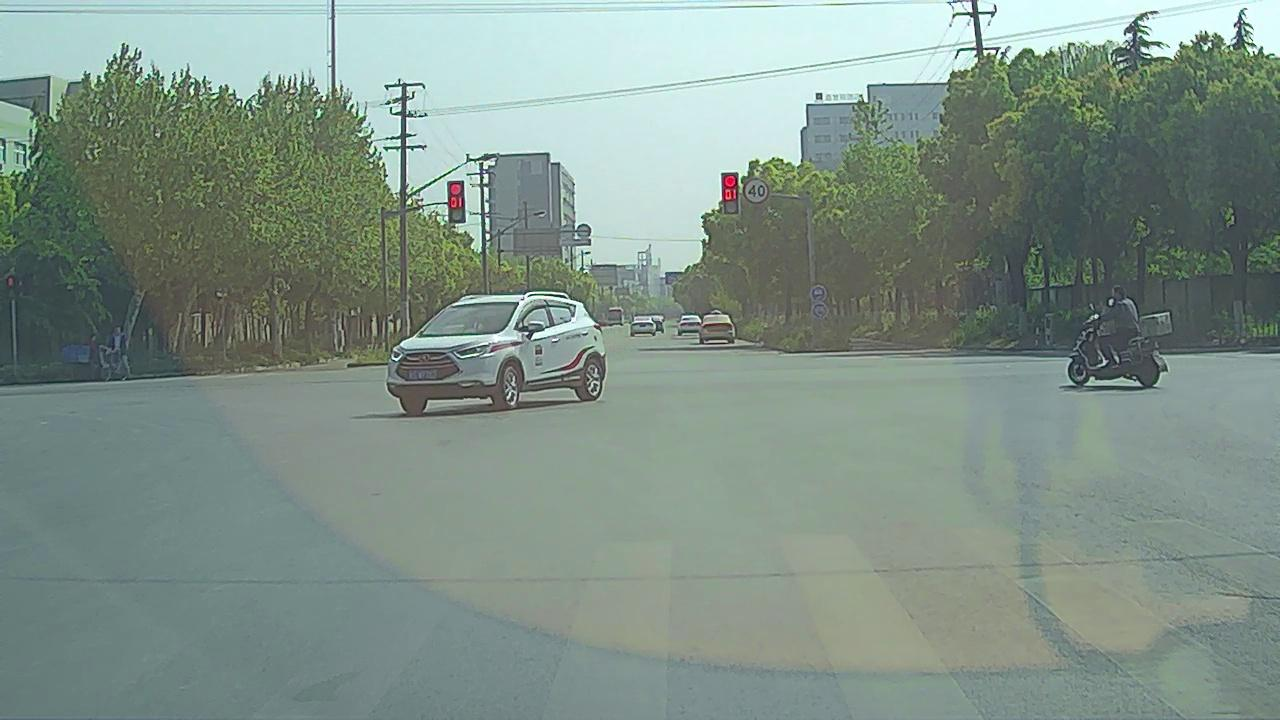traffic_light: (447, 180, 465, 221), (723, 173, 740, 213)
